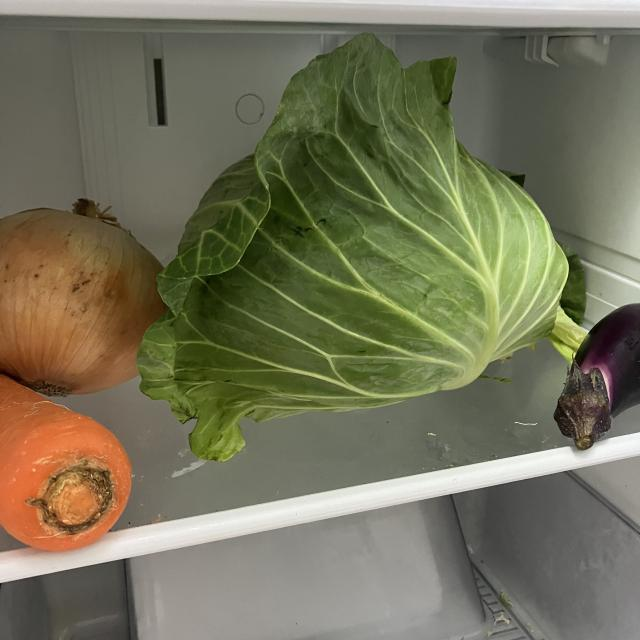cabbage: (139, 29, 573, 485)
carrot: (1, 372, 138, 560)
eggplant: (553, 301, 640, 457)
onion: (1, 194, 176, 398)
